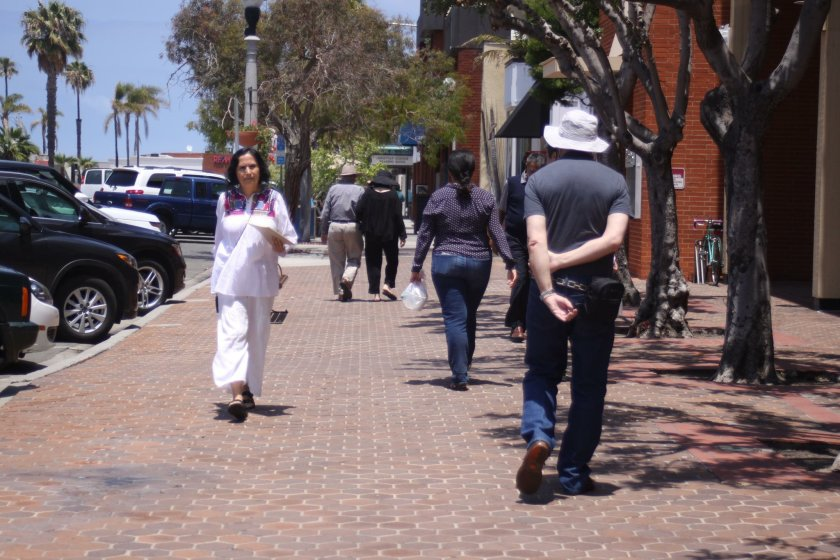Person: (515, 107, 635, 498), (409, 150, 518, 390), (211, 145, 300, 425), (354, 169, 408, 302), (318, 162, 366, 303)
